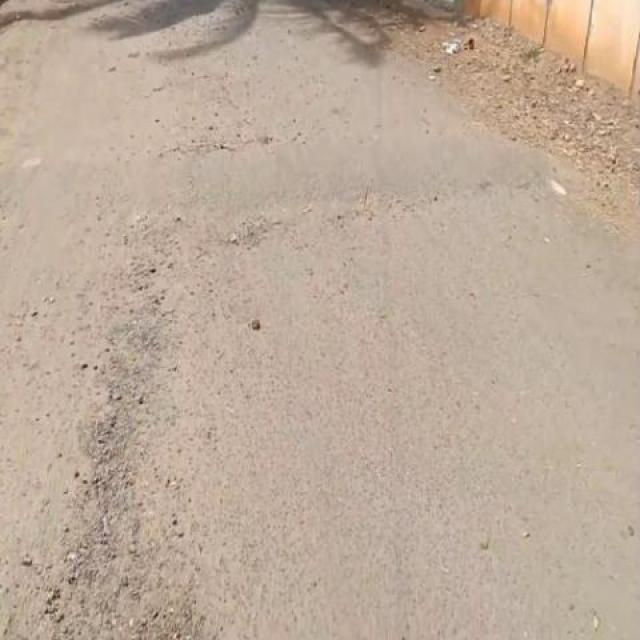Unmarked Bump: (21, 137, 550, 200)
